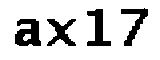1: (86, 7, 115, 49)
7: (118, 6, 153, 48)
a: (10, 16, 42, 49)
x: (45, 15, 78, 51)
